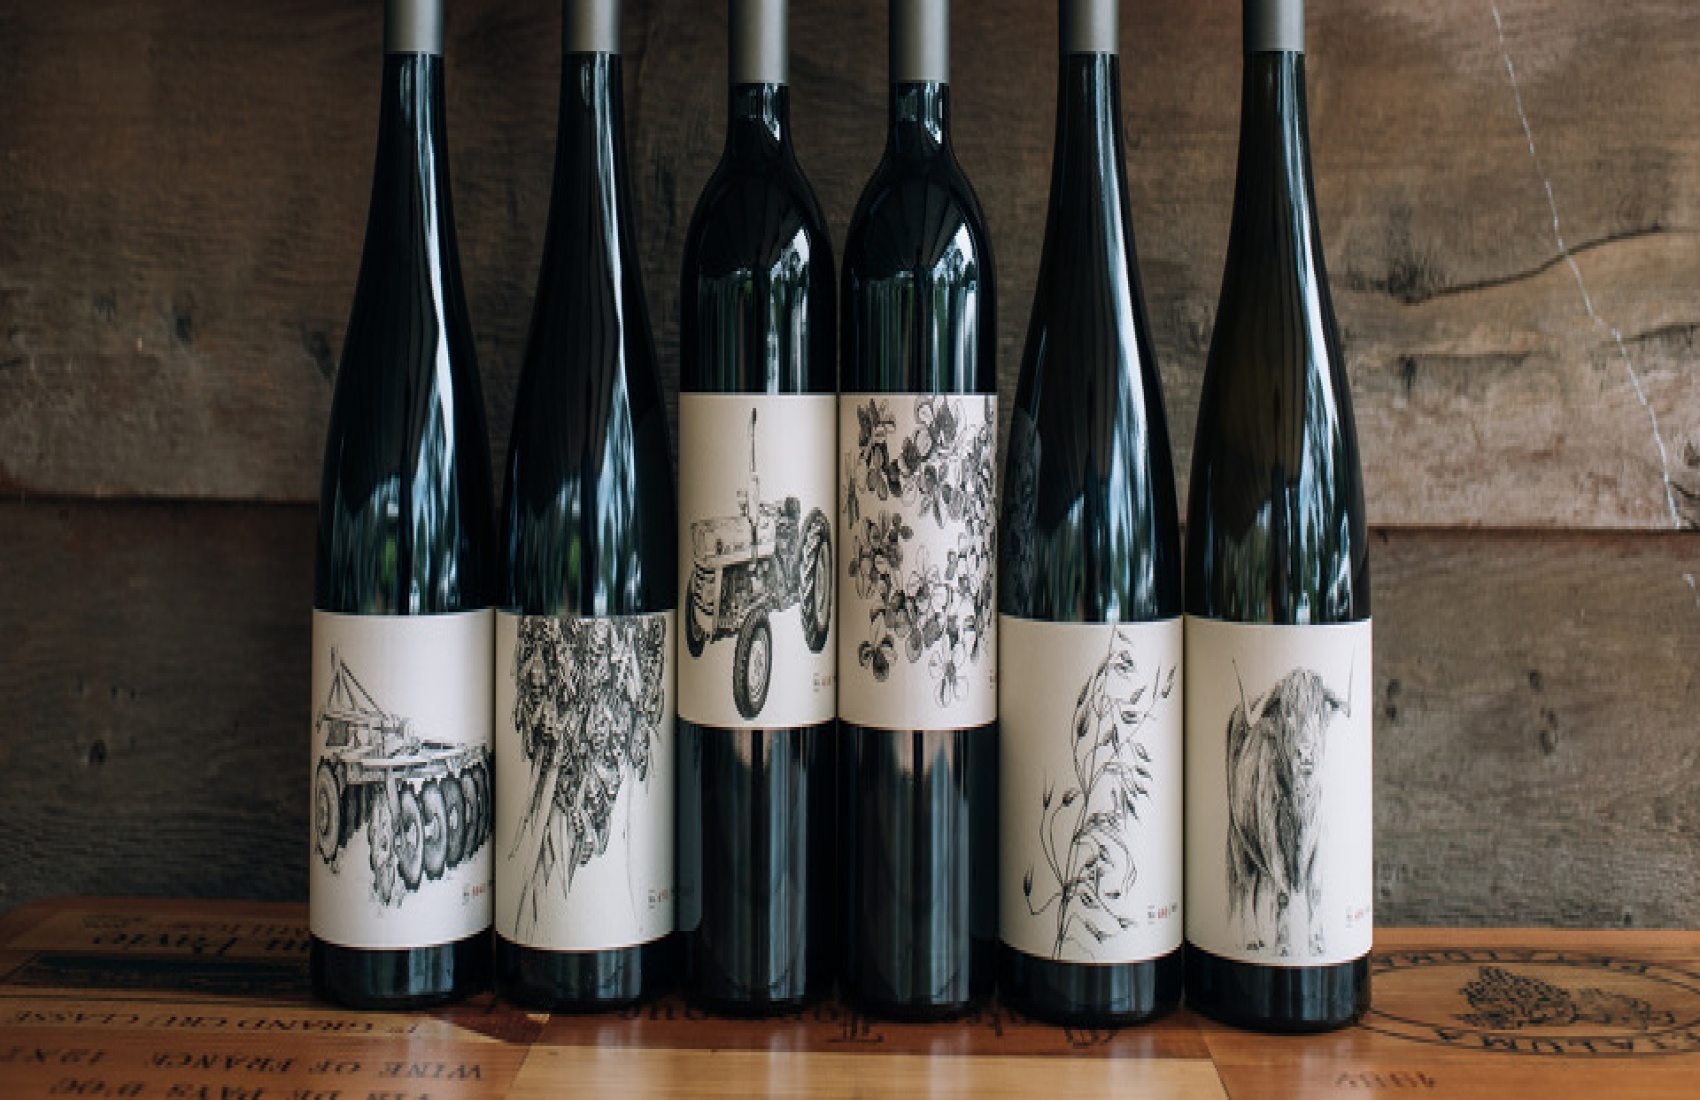wine: (496, 2, 677, 1007), (309, 1, 489, 1005), (1002, 2, 1178, 1012), (1188, 1, 1363, 1008), (680, 1, 838, 1005), (840, 1, 997, 1005)
